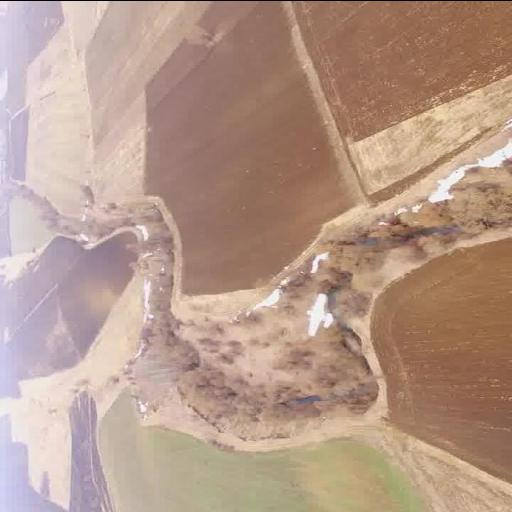uav: (292, 284, 342, 340)
